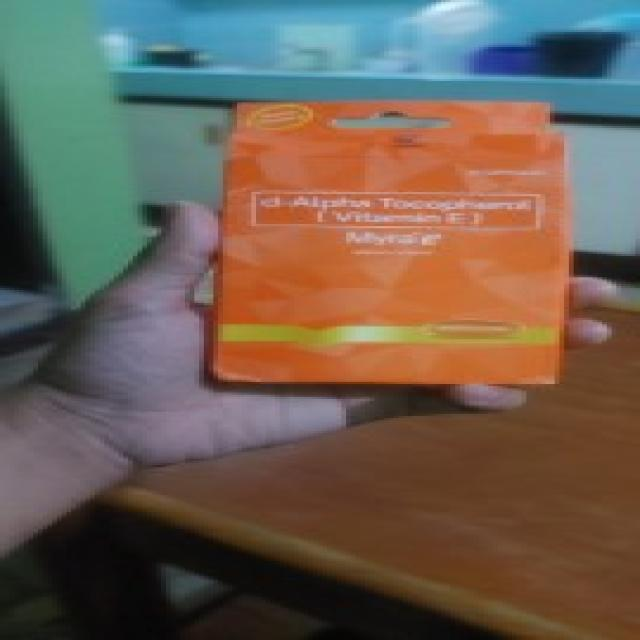Cacat: (217, 99, 559, 389)
